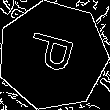P_E: (23, 31, 83, 81)
